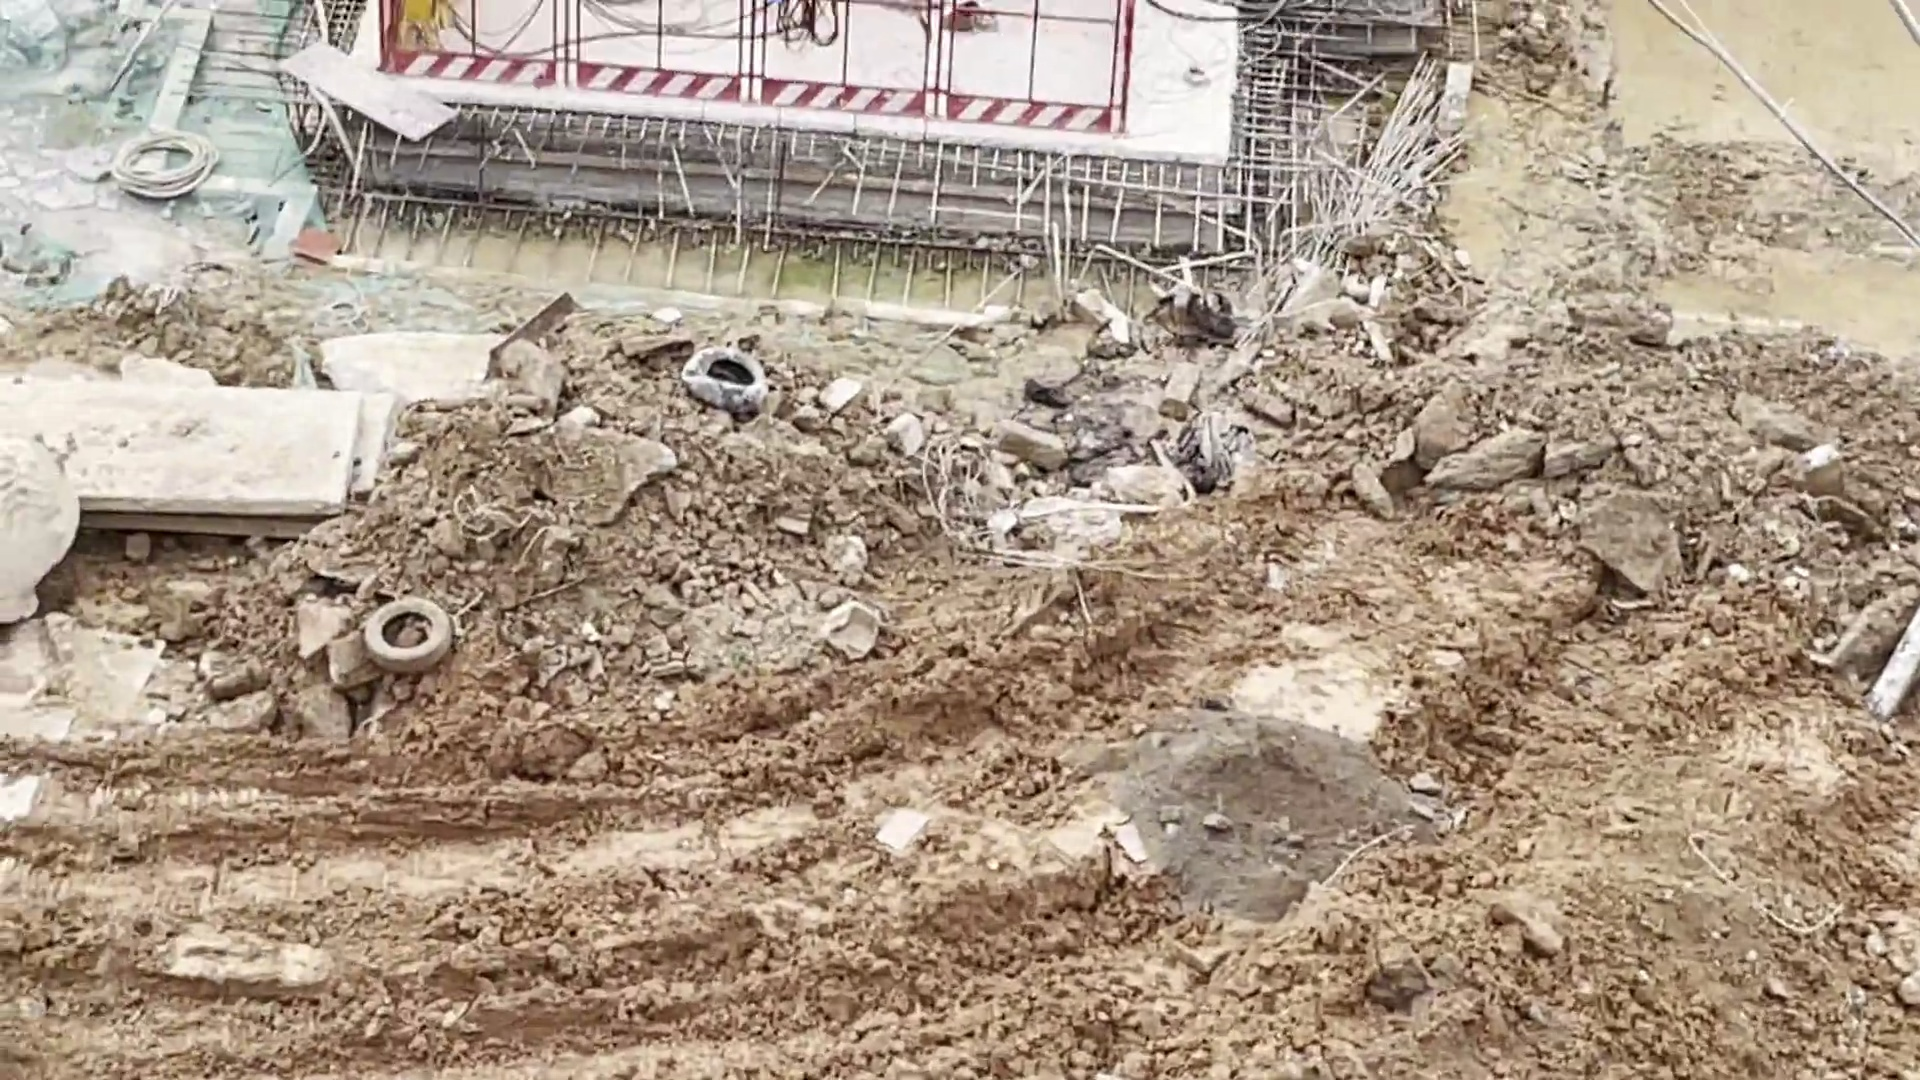fence: (382, 1, 1143, 131)
